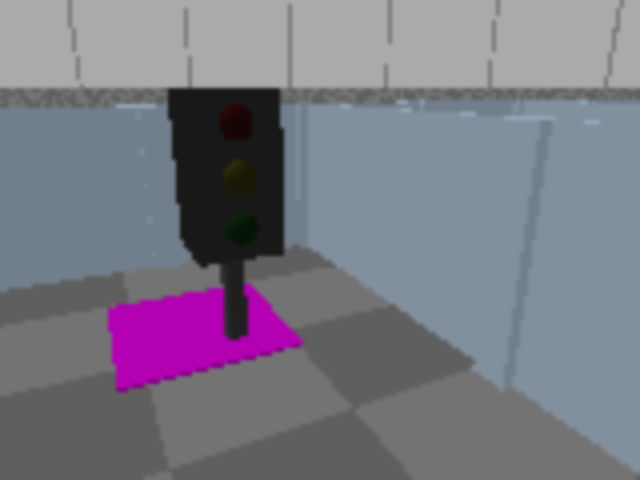goal_zone: (107, 282, 303, 393)
traffic_light: (166, 71, 287, 365)
